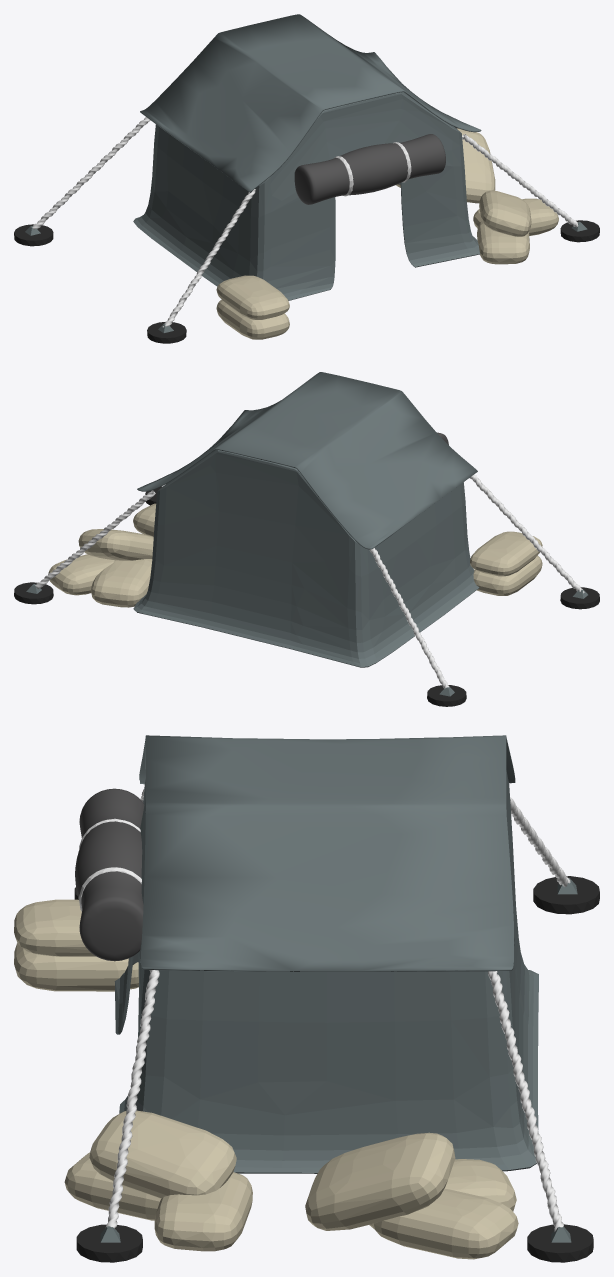
File: tent.glb
3 renders of one model, top to bottom at view 1: azimuth 30°, elevation 25°; view 2: azimuth 150°, elevation 25°; view 3: azimuth 270°, elevation 25°, orthographic. The views are drawn at different scales.
Visible parts, largest first — view 1: Tent; view 2: Tent; view 3: Tent.
Part boxes in pixels (box(x1,y1,x2,y2)): Tent: box(14, 14, 599, 343); Tent: box(14, 372, 599, 706); Tent: box(14, 735, 599, 1262).
Bounding box in the file's own units: 6.12 × 2.47 × 4.02.
